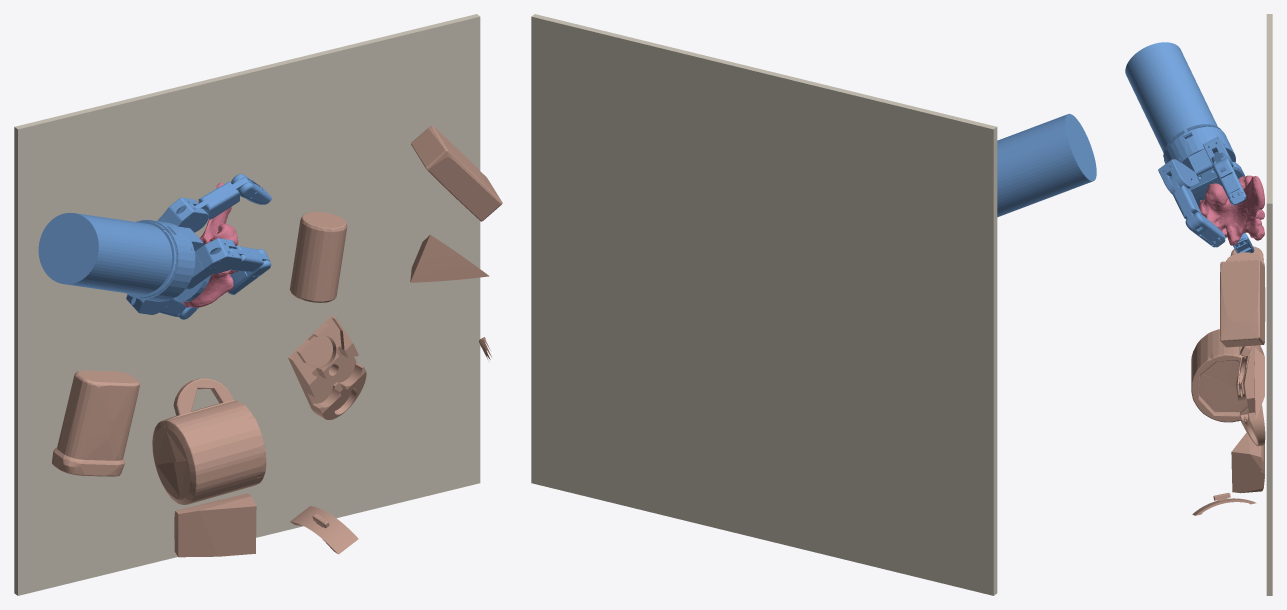
3 views of the same model, side by side, from view 1: azimuth 30°, elevation 25°; view 2: azimuth 150°, elevation 25°; view 3: azimuth 270°, elevation 25° (orthographic). The views are drawn at different scales.
Visible parts, largest first — view 1: environment, hand, obstacle_001, obstacle_007, obstacle_003, obstacle_005, obstacle_002, obstacle_006, obstacle_008, world, obstacle_000; view 2: environment, hand; view 3: hand, environment, obstacle_001, obstacle_006, world, obstacle_005, obstacle_003, obstacle_008, obstacle_000, obstacle_002.
Boxes of the visible parts, x1,y1,x2,y2 form: environment: (14, 14, 480, 595); hand: (38, 174, 271, 319); obstacle_001: (152, 378, 266, 504); obstacle_007: (52, 370, 140, 476); obstacle_003: (288, 315, 366, 419); obstacle_005: (174, 493, 256, 557); obstacle_002: (289, 212, 347, 302); obstacle_006: (411, 125, 502, 221); obstacle_008: (410, 234, 489, 282); world: (182, 182, 238, 307); obstacle_000: (290, 506, 358, 554); environment: (531, 14, 997, 595); hand: (997, 113, 1096, 217); hand: (1125, 42, 1254, 253); environment: (1266, 14, 1272, 595); obstacle_001: (1191, 329, 1264, 422); obstacle_006: (1220, 260, 1265, 347); world: (1198, 175, 1264, 245); obstacle_005: (1231, 432, 1264, 493); obstacle_003: (1236, 355, 1265, 446); obstacle_008: (1254, 348, 1264, 419); obstacle_000: (1192, 492, 1256, 515); obstacle_002: (1226, 252, 1264, 265).
Bounding box in the file's own units: 0.6419 × 0.5732 × 0.1951.
